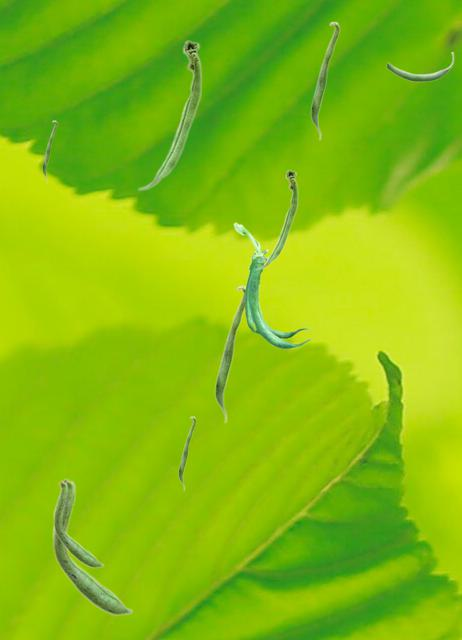french_bean: (52, 477, 132, 615), (233, 222, 310, 348), (137, 39, 201, 190), (53, 480, 103, 567), (255, 169, 297, 269), (214, 285, 244, 423), (310, 21, 339, 140), (386, 52, 453, 81), (178, 416, 195, 490), (42, 120, 56, 182)
